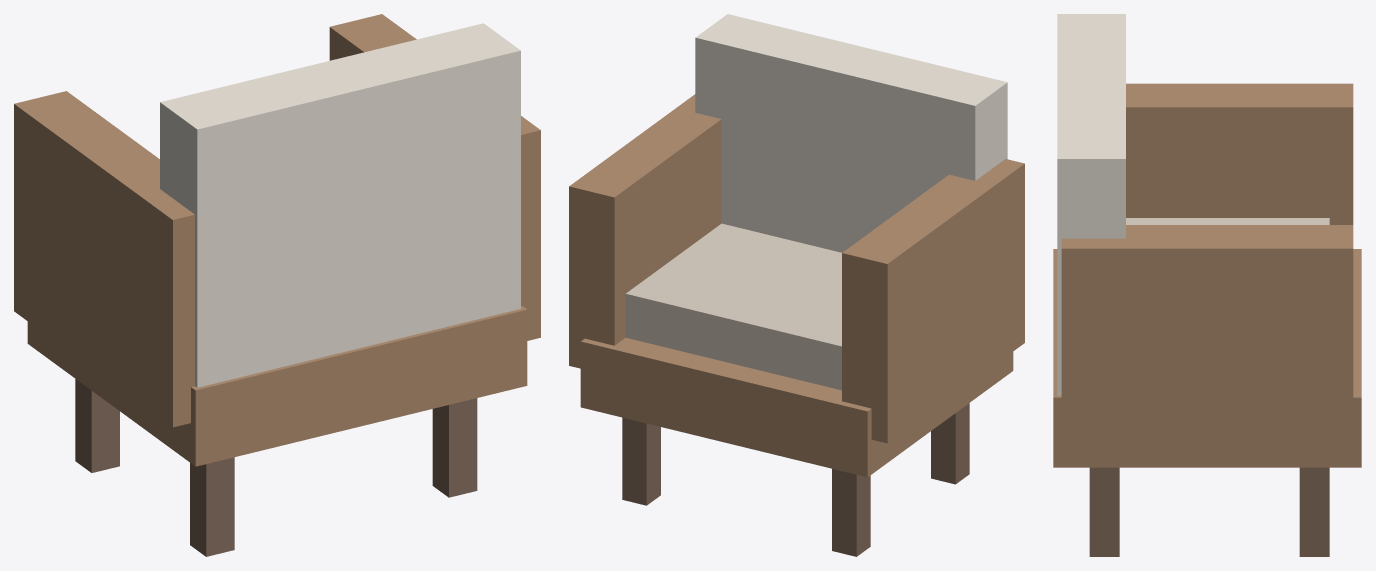
The model's file is accent_chair.glb.
3 renders of one model, left to right at view 1: azimuth 30°, elevation 25°; view 2: azimuth 150°, elevation 25°; view 3: azimuth 270°, elevation 25°, orthographic. The views are drawn at different scales.
Parts seen in each view (by area): view 1: part_1, part_2, part_0, part_3, part_7, part_5, part_6; view 2: part_1, part_2, part_0, part_4, part_3, part_6, part_8, part_5; view 3: part_3, part_2, part_1, part_0, part_7, part_8, part_4.
Part boxes in pixels (x1,y1,x2,y2): part_1: (160, 23, 520, 387); part_2: (14, 91, 194, 427); part_0: (27, 306, 527, 466); part_3: (329, 14, 540, 340); part_7: (432, 398, 477, 497); part_5: (190, 457, 234, 556); part_6: (75, 379, 119, 472); part_1: (695, 14, 1007, 252); part_2: (842, 159, 1024, 443); part_0: (580, 338, 1013, 477); part_4: (625, 223, 841, 390); part_3: (569, 94, 721, 368); part_6: (832, 469, 870, 556); part_8: (622, 417, 660, 505); part_5: (931, 403, 969, 484); part_3: (1061, 225, 1353, 438); part_2: (1126, 83, 1353, 224); part_1: (1057, 14, 1125, 395); part_0: (1053, 249, 1361, 467); part_7: (1089, 467, 1119, 556); part_8: (1299, 467, 1329, 556); part_4: (1126, 218, 1329, 224).
Bounding box in the file's own units: 0.91 × 1.05 × 0.72.
